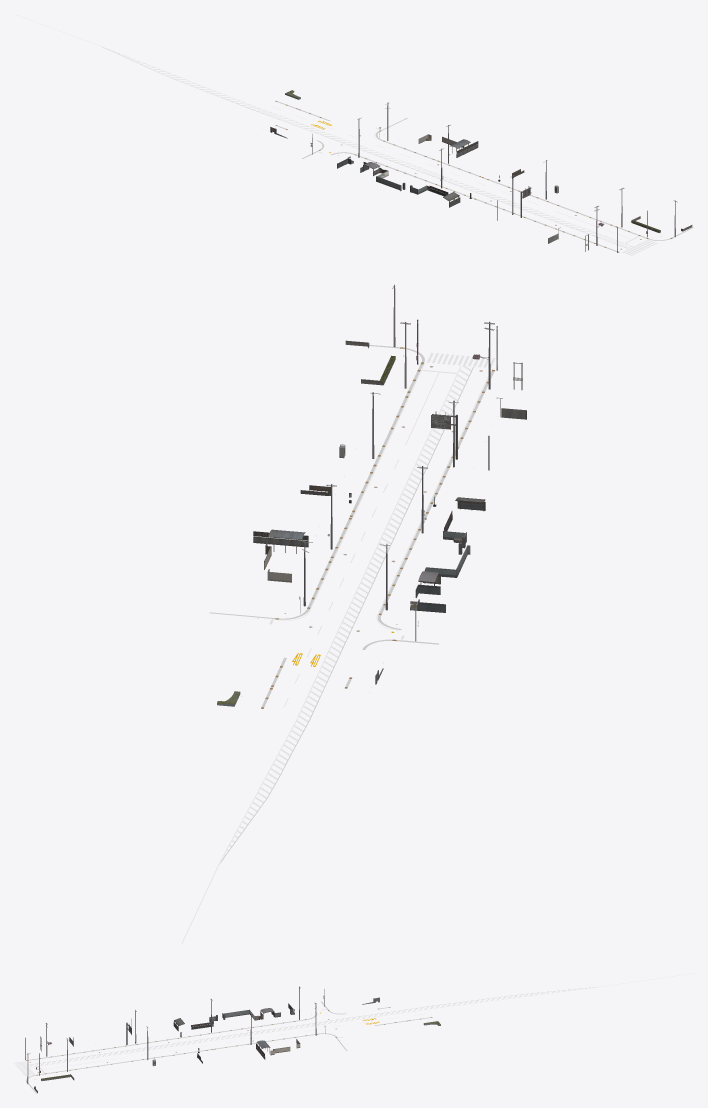
Rendered from frn--5.glb.
3 views of the same model, one above another, from view 1: azimuth 30°, elevation 25°; view 2: azimuth 150°, elevation 25°; view 3: azimuth 270°, elevation 25° (orthographic). The views are drawn at different scales.
Bounding box in the file's own units: 97.7 × 12.76 × 233.
3 materials, 1 textured.
